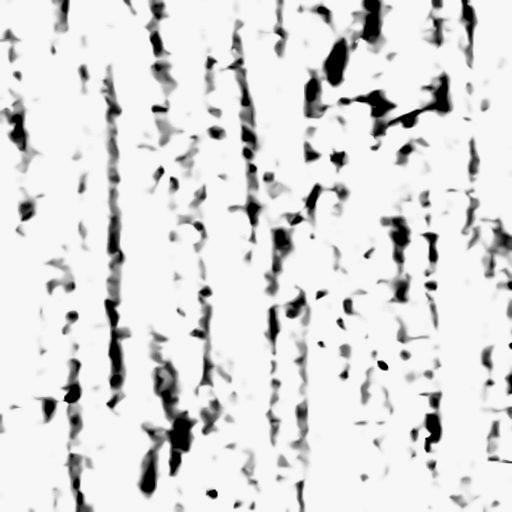egg: (326, 41, 344, 83)
